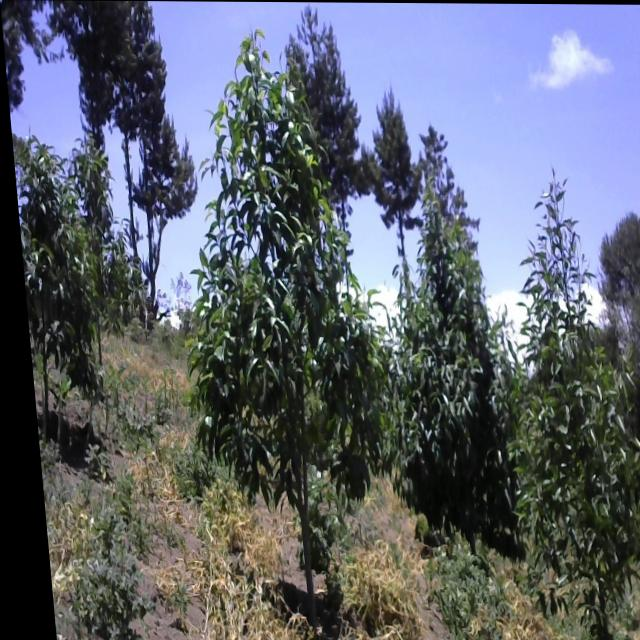Hass Avocado: (164, 23, 397, 589), (481, 176, 640, 640), (377, 140, 515, 558), (9, 129, 110, 457)
cedrus: (58, 0, 199, 290), (273, 15, 379, 303), (371, 96, 435, 318), (588, 208, 640, 467)
